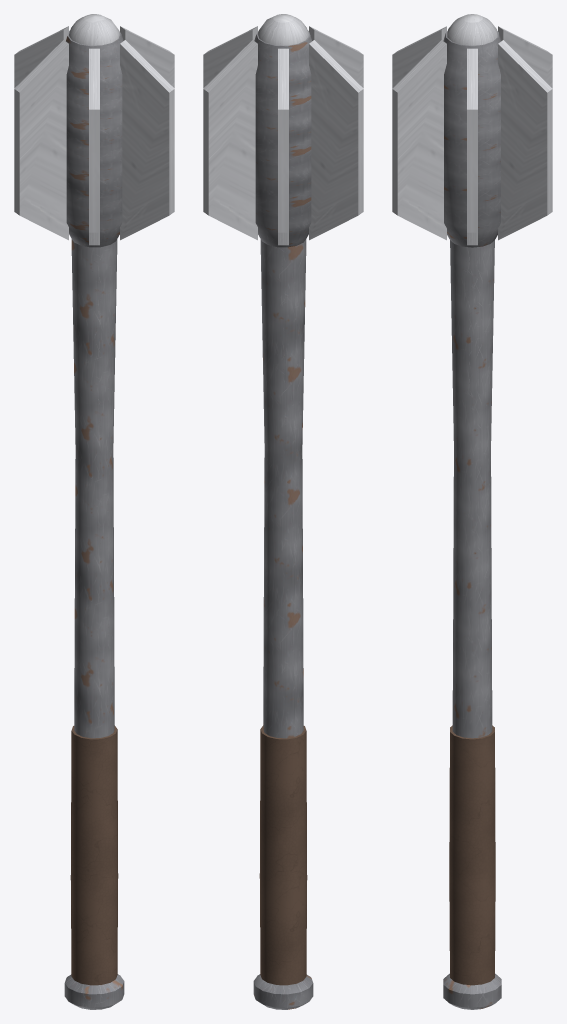
Rendered from mace.glb.
The picture shows the model from 3 angles, left to right: view 1: azimuth 30°, elevation 25°; view 2: azimuth 150°, elevation 25°; view 3: azimuth 270°, elevation 25°; orthographic projection.
Visible parts, largest first — view 1: OUT; view 2: OUT; view 3: OUT.
Part boxes in pixels (x1,y1,x2,y2): OUT: (14, 14, 174, 1009); OUT: (203, 14, 363, 1009); OUT: (392, 14, 552, 1009).
Bounding box in the file's own units: 0.132 × 0.8 × 0.1183.
Materials: 3 (3 with a texture image).
